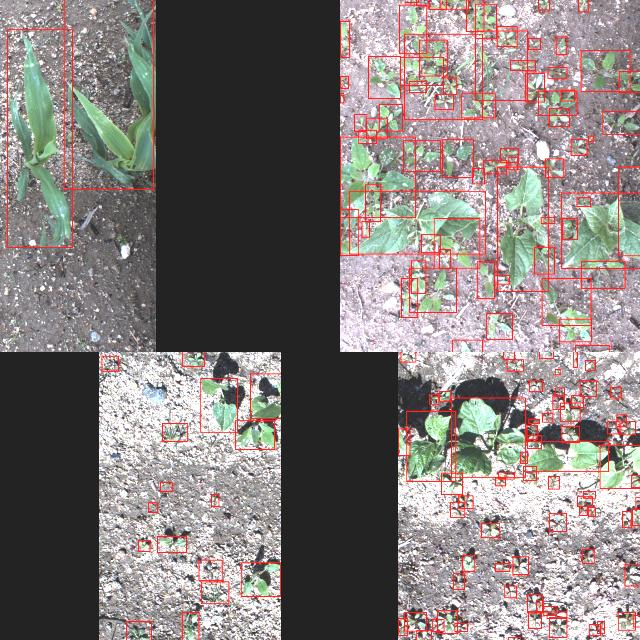crop: (63, 0, 153, 188), (6, 29, 72, 247), (349, 190, 485, 253), (497, 166, 548, 290), (561, 192, 640, 268), (450, 398, 526, 477), (406, 410, 454, 480), (526, 441, 608, 471), (200, 378, 237, 432), (618, 166, 640, 255), (599, 444, 640, 488), (250, 372, 281, 417), (339, 209, 358, 255), (441, 472, 462, 493), (397, 428, 409, 454)
weed: (404, 33, 482, 119), (339, 136, 415, 218), (475, 30, 527, 100), (433, 218, 479, 268), (408, 266, 456, 312), (542, 278, 590, 324), (580, 50, 630, 90), (398, 4, 426, 54), (240, 562, 280, 596), (367, 56, 399, 98), (581, 260, 625, 288), (400, 57, 442, 85), (234, 419, 274, 448), (402, 140, 440, 170), (442, 139, 472, 177), (419, 39, 447, 75), (602, 110, 640, 134), (538, 90, 576, 114), (461, 93, 495, 117), (559, 318, 591, 342), (474, 4, 496, 38), (476, 260, 494, 298), (400, 278, 418, 316), (486, 313, 512, 339), (378, 104, 402, 130), (200, 581, 228, 603), (364, 184, 380, 222), (534, 246, 554, 274), (465, 0, 483, 31), (526, 72, 544, 101), (410, 260, 426, 292), (198, 560, 222, 580), (181, 612, 198, 640), (125, 621, 150, 640), (157, 536, 186, 552), (619, 70, 640, 91), (436, 610, 456, 632), (451, 338, 482, 352), (162, 422, 186, 440), (496, 26, 516, 46), (366, 118, 386, 138), (560, 402, 580, 422), (404, 612, 426, 630), (544, 158, 564, 176), (339, 20, 349, 56), (420, 234, 440, 252), (549, 107, 569, 125), (482, 159, 506, 173), (625, 563, 640, 585), (548, 513, 566, 531), (550, 617, 566, 637), (480, 522, 500, 538), (433, 93, 452, 109), (561, 426, 579, 442), (618, 612, 634, 630), (512, 556, 528, 574), (526, 594, 542, 612), (181, 352, 203, 365), (562, 218, 576, 238), (575, 344, 609, 352), (570, 139, 586, 155), (579, 380, 595, 396), (500, 147, 518, 161), (358, 129, 376, 143), (100, 356, 118, 370), (510, 60, 534, 70), (442, 77, 456, 93), (440, 0, 468, 8), (438, 248, 449, 268), (548, 66, 566, 78), (408, 80, 426, 92), (528, 610, 540, 628), (450, 502, 464, 516), (458, 494, 472, 508), (522, 466, 536, 480), (527, 434, 541, 448), (353, 114, 365, 130), (462, 555, 474, 571), (620, 422, 636, 434), (526, 424, 538, 440), (556, 36, 566, 54), (452, 573, 463, 589), (472, 168, 484, 182), (581, 549, 593, 563), (552, 395, 564, 409), (415, 629, 430, 640), (506, 360, 522, 370), (397, 618, 407, 634), (546, 610, 566, 618), (622, 511, 632, 527), (576, 496, 592, 506), (428, 0, 445, 9), (528, 37, 540, 49), (431, 619, 443, 631), (504, 585, 516, 597), (631, 509, 640, 525), (571, 395, 583, 407), (494, 274, 508, 284), (528, 380, 542, 390), (399, 352, 414, 361), (630, 474, 640, 487), (361, 220, 369, 236), (494, 563, 510, 571), (576, 197, 590, 206), (507, 157, 517, 169), (562, 90, 574, 100), (548, 476, 558, 488), (588, 624, 600, 634), (616, 414, 626, 426), (608, 421, 618, 433), (578, 0, 588, 11), (438, 390, 449, 400), (159, 482, 171, 491), (138, 540, 148, 550), (610, 387, 620, 397), (542, 412, 552, 422), (585, 359, 595, 369), (554, 386, 564, 396), (428, 394, 438, 404), (537, 0, 548, 9), (339, 75, 347, 87), (210, 494, 218, 506), (454, 623, 466, 631), (596, 621, 604, 633), (543, 606, 555, 614), (583, 490, 595, 498), (497, 472, 513, 478), (632, 615, 640, 626), (540, 217, 554, 223), (148, 502, 156, 512), (495, 477, 505, 485), (538, 352, 552, 357), (502, 352, 513, 358), (415, 0, 428, 5), (579, 506, 587, 514), (536, 600, 542, 610), (635, 496, 640, 508), (588, 506, 594, 516), (520, 452, 526, 462), (573, 352, 577, 366), (339, 92, 343, 102), (528, 418, 538, 422), (588, 135, 594, 141), (554, 368, 560, 374), (508, 637, 520, 640)
